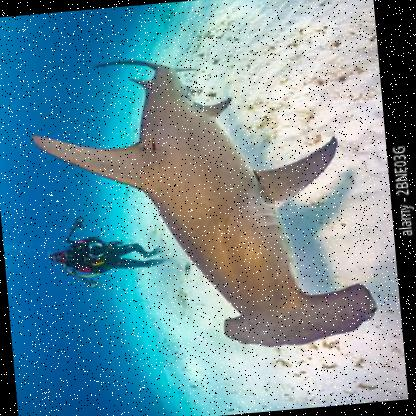hammerhead_Shark: (18, 22, 386, 364)
